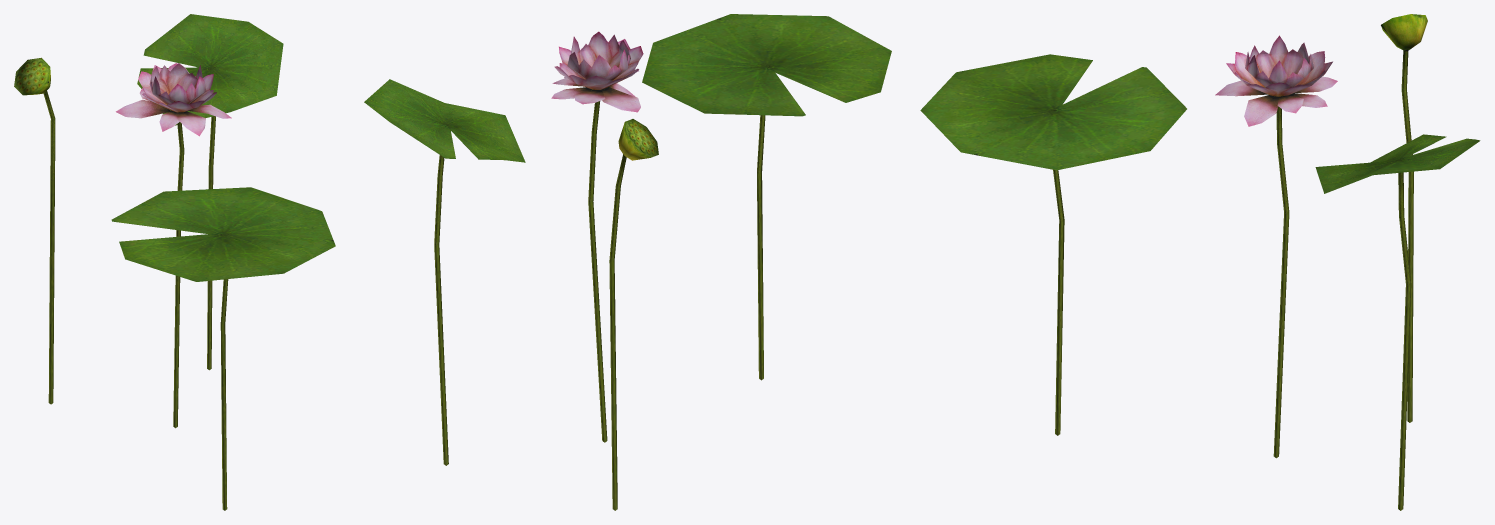
The model's file is lotusflower_05.fbx.
The picture shows the model from 3 angles, left to right: view 1: azimuth 30°, elevation 25°; view 2: azimuth 150°, elevation 25°; view 3: azimuth 270°, elevation 25°; orthographic projection. The views are drawn at different scales.
Visible parts, largest first — view 1: lotusflower_05; view 2: lotusflower_05; view 3: lotusflower_05.
Boxes of the visible parts, x1=… form: lotusflower_05: x1=14, y1=14, x2=335, y2=510; lotusflower_05: x1=364, y1=14, x2=891, y2=510; lotusflower_05: x1=920, y1=14, x2=1480, y2=510.
Size of the model in its own units: 1.61 by 1.85 by 2.26.
